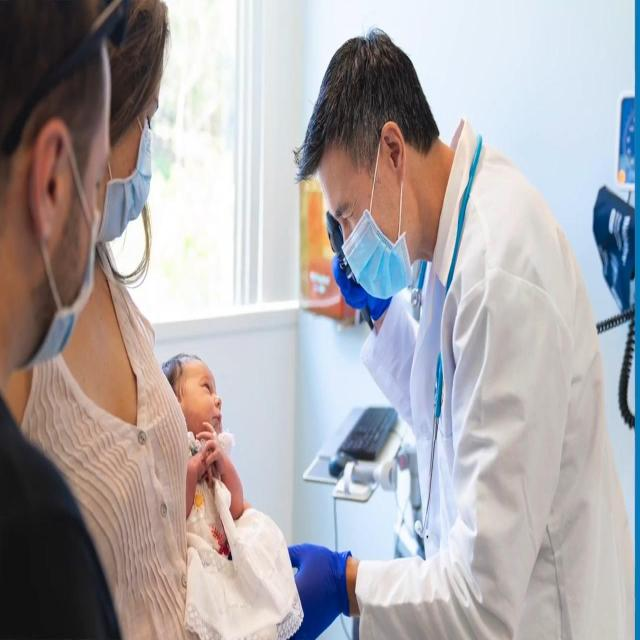Mask: (23, 44, 111, 372), (318, 136, 414, 297), (99, 42, 162, 244)
NO-Mask: (180, 359, 222, 439)
